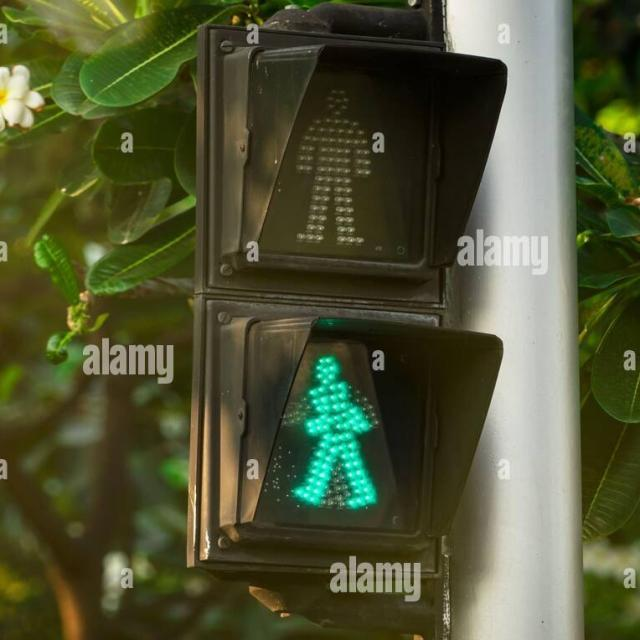green-light: (286, 331, 375, 522)
